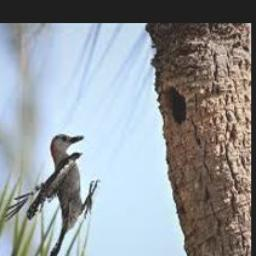Woodpecker: (2, 135, 99, 256)
